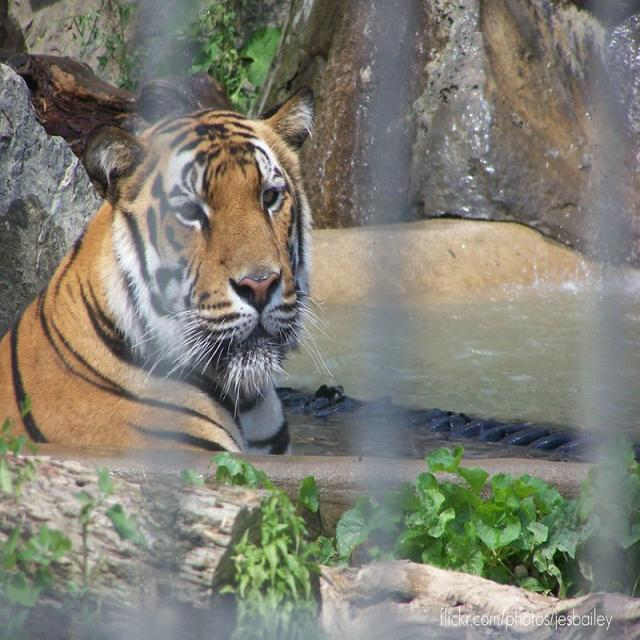Tiger: (0, 86, 320, 459)
